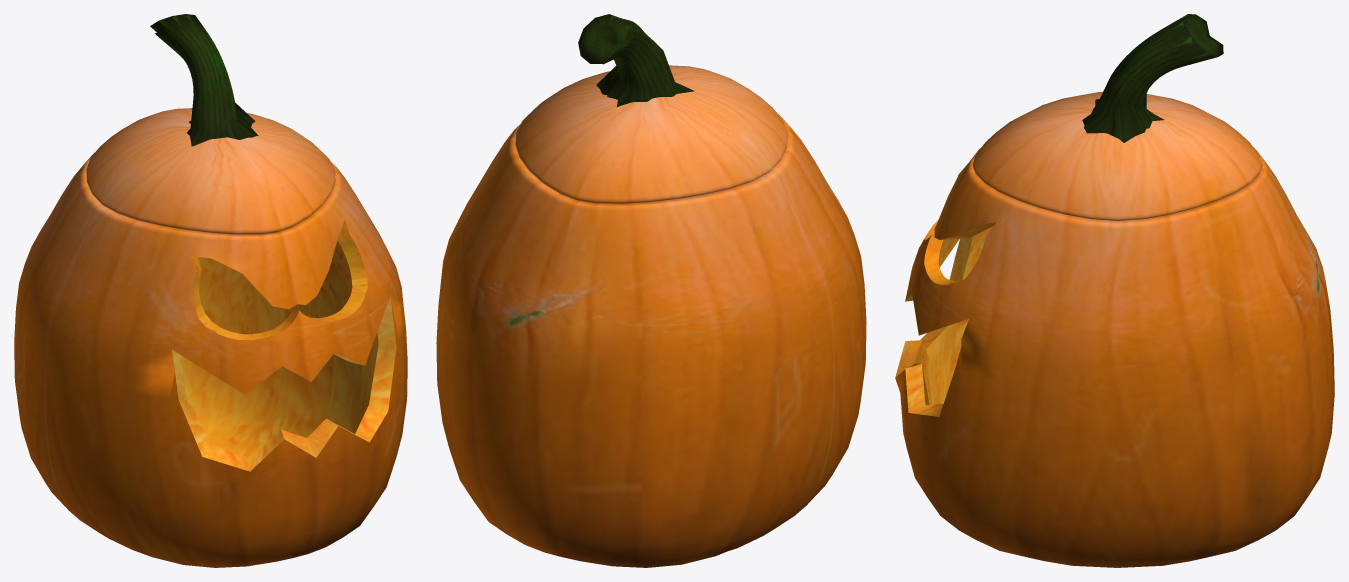
File: pumpkin4.glb
The picture shows the model from 3 angles, left to right: view 1: azimuth 30°, elevation 25°; view 2: azimuth 150°, elevation 25°; view 3: azimuth 270°, elevation 25°; orthographic projection. The views are drawn at different scales.
Visible parts, largest first — view 1: backR_pumpkin_body; view 2: backR_pumpkin_body; view 3: backR_pumpkin_body.
Part boxes in pixels (bbox=[...]): backR_pumpkin_body: bbox=[14, 14, 407, 567]; backR_pumpkin_body: bbox=[436, 14, 866, 567]; backR_pumpkin_body: bbox=[895, 14, 1334, 567].
Bounding box in the file's own units: 8.26 × 11.39 × 8.93.
4 materials, 4 textured.
